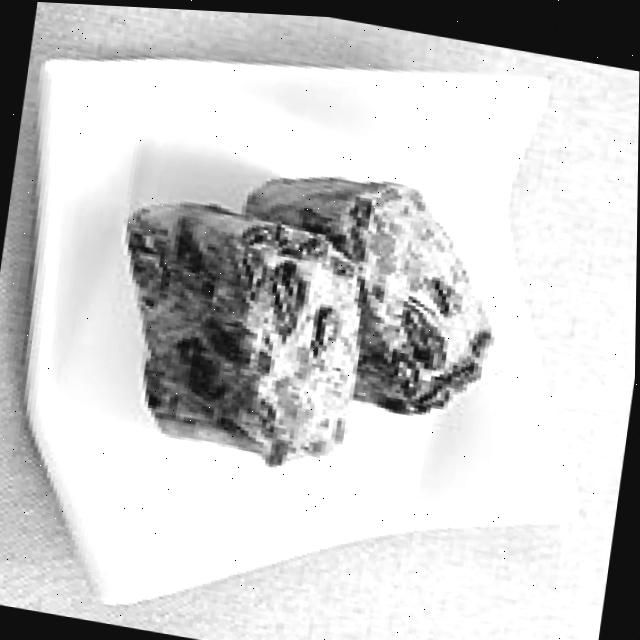鸡蛋料理: (94, 139, 526, 504)
